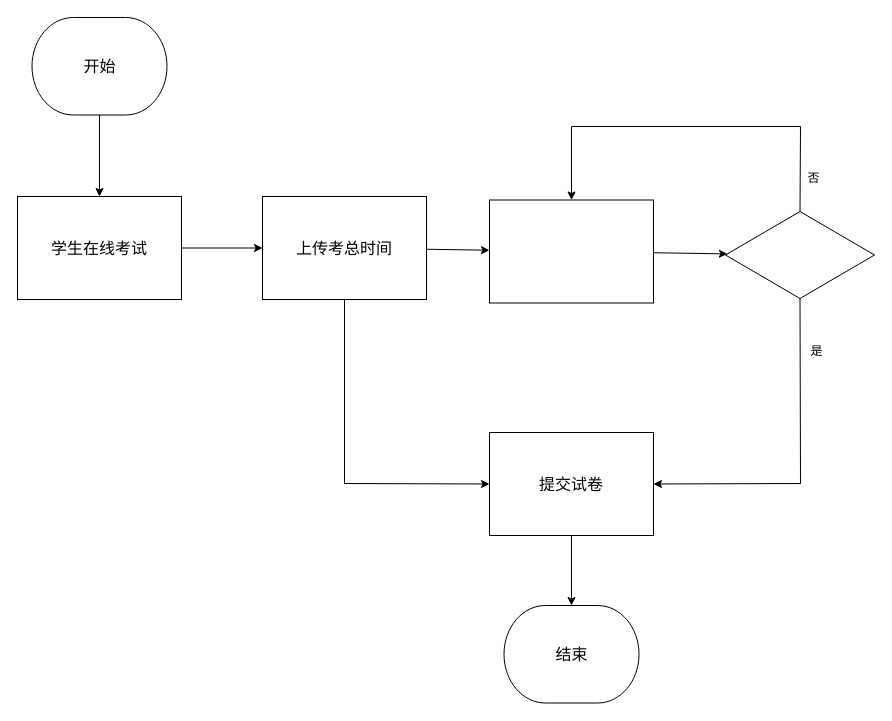
The diagram is 892 pixels wide and 721 high, and some of its shapes have lost their labels. The centre of each missing label's shape, as x and y in pixels:
剩余时间 > 0 ?: the point at 799,254
每分钟返回剩余时间: the point at 571,251
